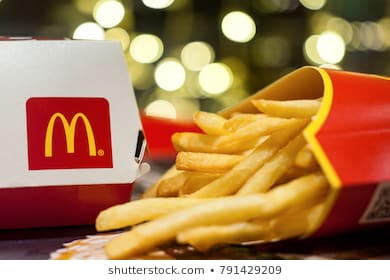mcdonalds: (41, 108, 102, 163)
